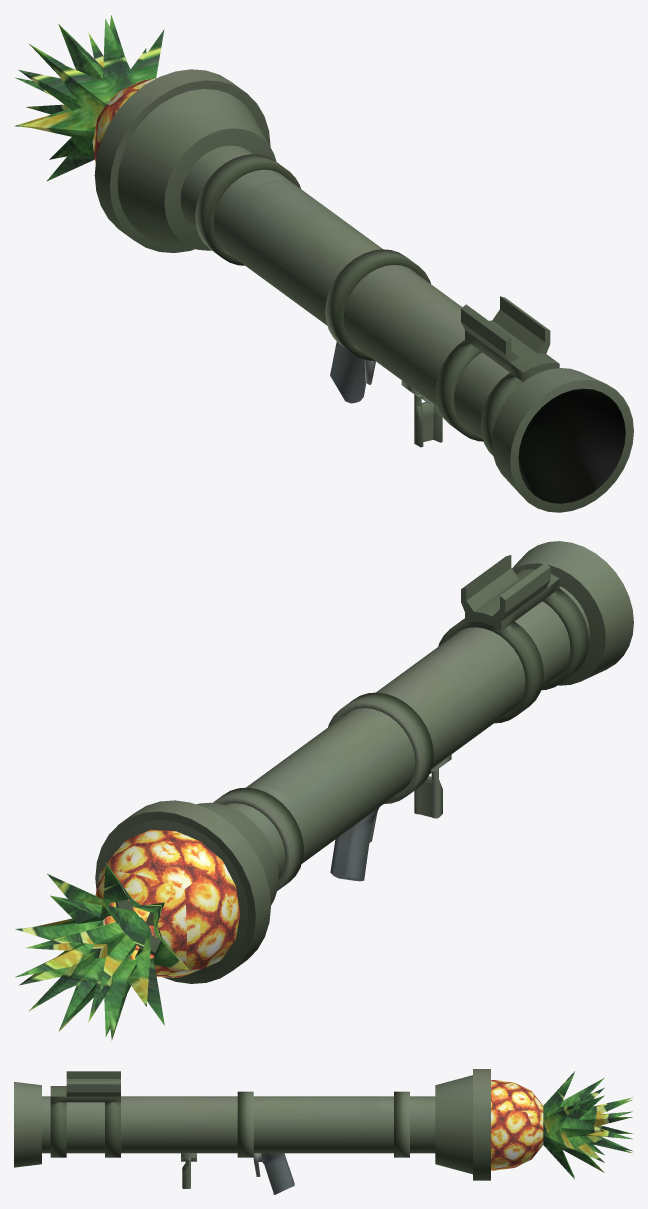
The model's file is Gun_ananas.fbx.
The picture shows the model from 3 angles, top to bottom: view 1: azimuth 30°, elevation 25°; view 2: azimuth 150°, elevation 25°; view 3: azimuth 270°, elevation 25°; orthographic projection. The views are drawn at different scales.
Visible parts, largest first — view 1: ananaslauncher, ananasammo; view 2: ananaslauncher, ananasammo; view 3: ananaslauncher, ananasammo.
Boxes of the visible parts, x1,y1,x2,y2 form: ananaslauncher: [94, 69, 633, 512]; ananasammo: [14, 15, 164, 181]; ananaslauncher: [95, 541, 633, 983]; ananasammo: [15, 829, 240, 1040]; ananaslauncher: [14, 1069, 490, 1194]; ananasammo: [491, 1071, 632, 1179].
Size of the model in its own units: 1870 by 2154 by 9976.
2 materials, 2 textured.
